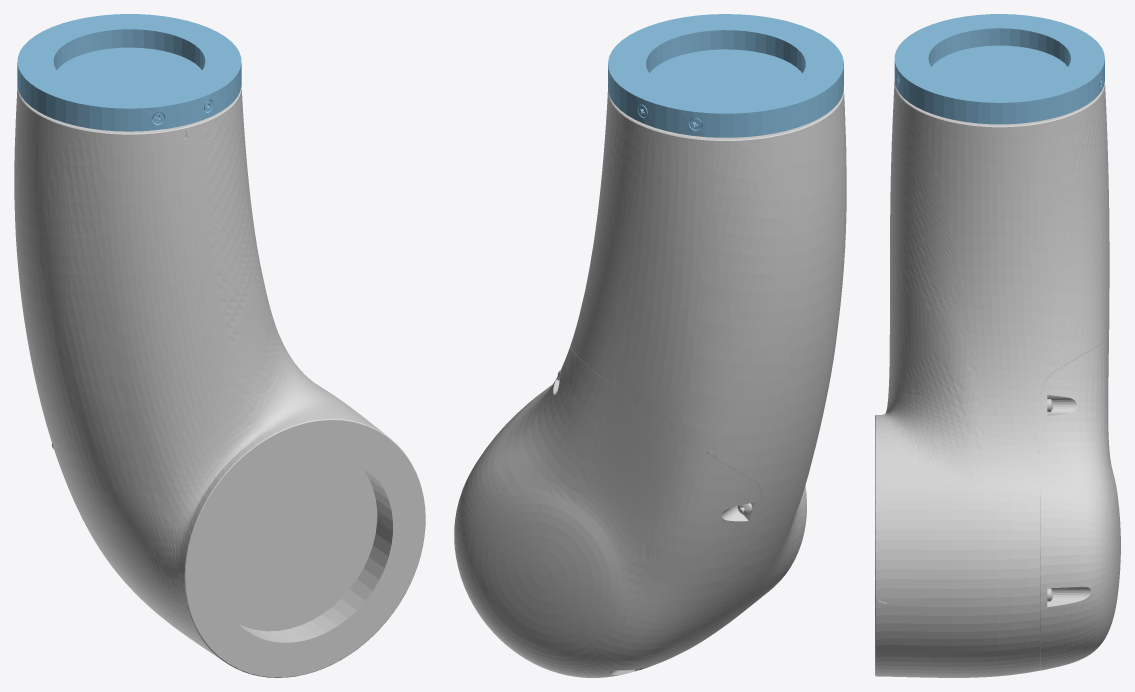
3 renders of one model, left to right at view 1: azimuth 30°, elevation 25°; view 2: azimuth 150°, elevation 25°; view 3: azimuth 270°, elevation 25°, orthographic. The views are drawn at different scales.
Visible parts, largest first — view 1: Link3; view 2: Link3; view 3: Link3.
Part boxes in pixels (<box>): Link3: <box>14,14,425,677</box>; Link3: <box>454,14,846,677</box>; Link3: <box>875,14,1120,677</box>.
Bounding box in the file's own units: 0.1511 × 0.1035 × 0.2587.
